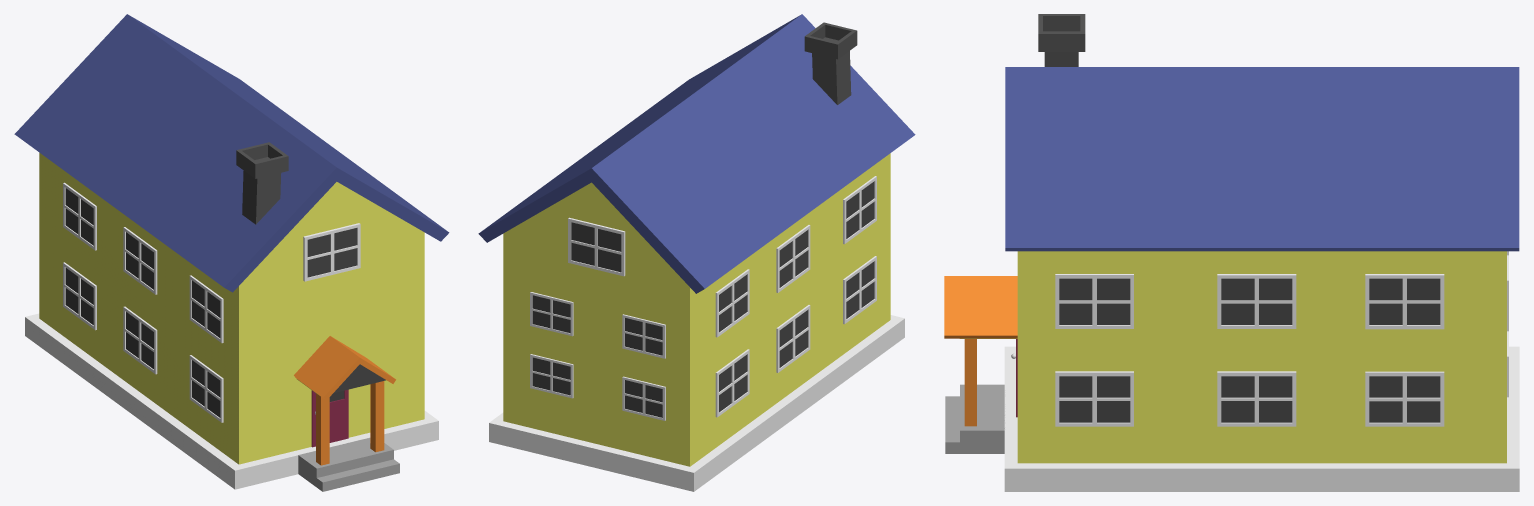
File: House_6.fbx
3 views of the same model, side by side, from view 1: azimuth 30°, elevation 25°; view 2: azimuth 150°, elevation 25°; view 3: azimuth 270°, elevation 25° (orthographic). The views are drawn at different scales.
Parts seen in each view (by area): view 1: House_6; view 2: House_6; view 3: House_6.
Part boxes in pixels (<box>): House_6: <box>14,14,449,491</box>; House_6: <box>478,14,915,491</box>; House_6: <box>944,14,1519,491</box>.
Size of the model in its own units: 3.93 by 7.08 by 5.11.
